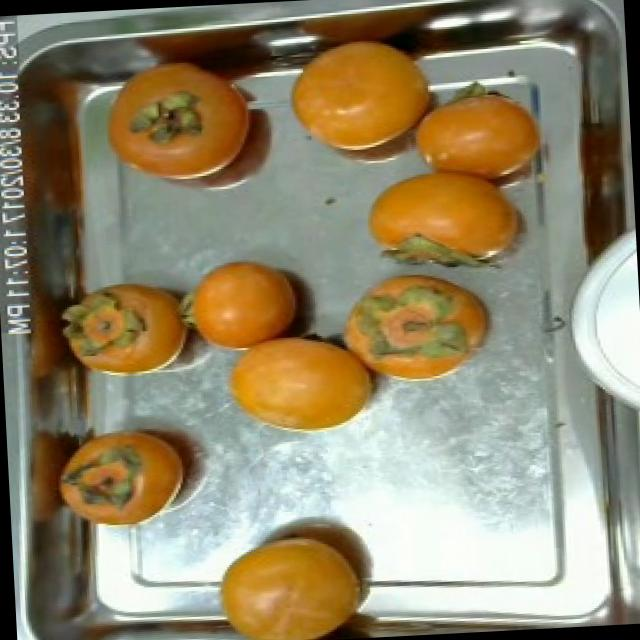Fruit: (83, 48, 294, 210), (268, 31, 462, 180), (209, 316, 393, 452), (323, 261, 507, 394), (204, 511, 388, 640), (42, 410, 216, 544), (394, 74, 560, 208), (45, 266, 212, 396), (170, 242, 332, 358), (549, 96, 638, 276)
